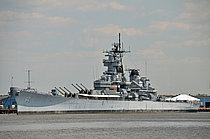MIL_Ship: (12, 39, 202, 112)
